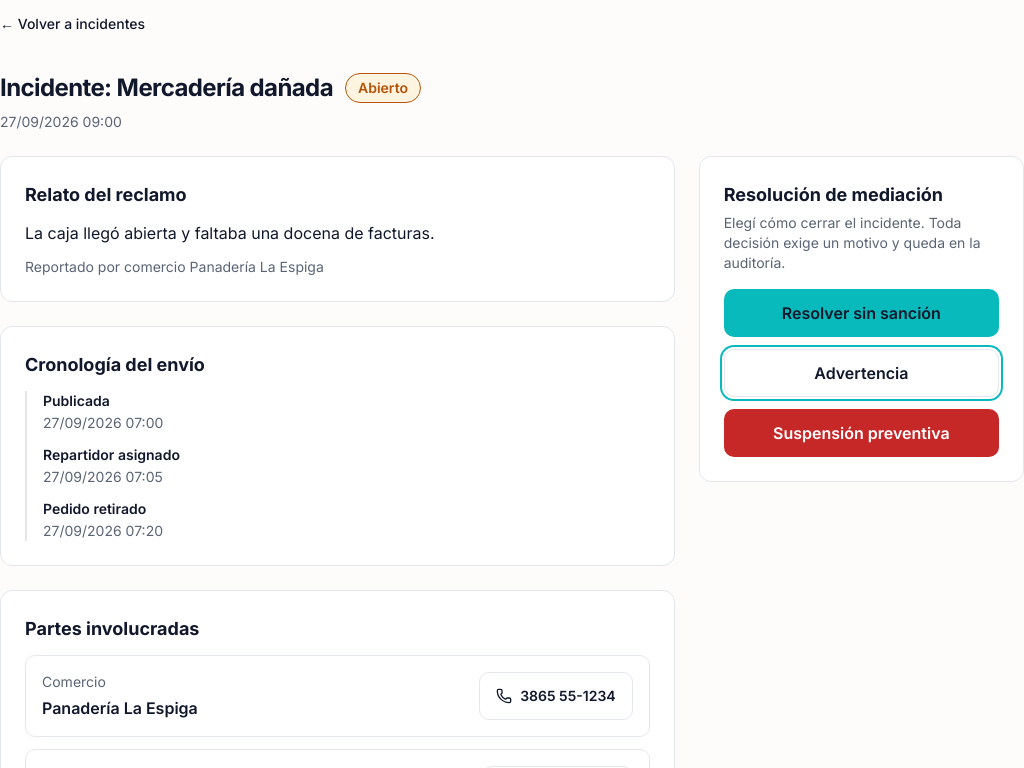
Scenario: PR113-H07/H08: Dialogs de resolución de A05 › warning: el clic solo abre un Dialog titulado y descripto
Click the button "Advertencia". click: (861, 373)
box: [724,349,999,397]
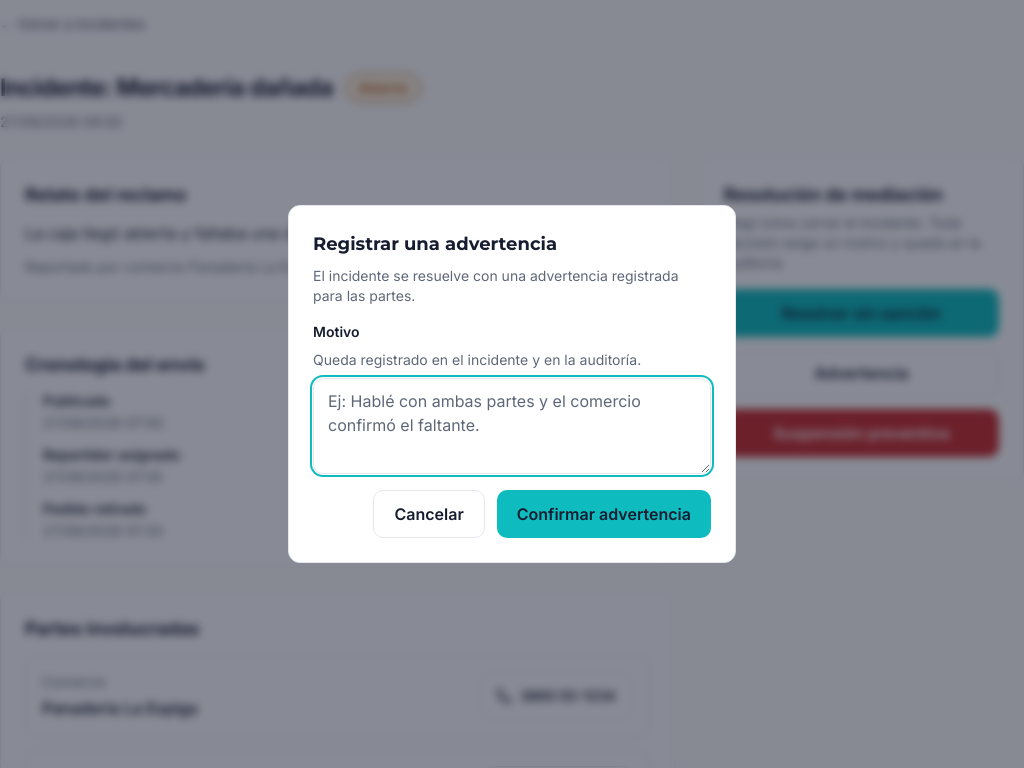
Expected: the text box labelled "Motivo" is shown, [313,378,711,474]
Expected: the heading "Registrar una advertencia" is shown, [313,233,557,255]
